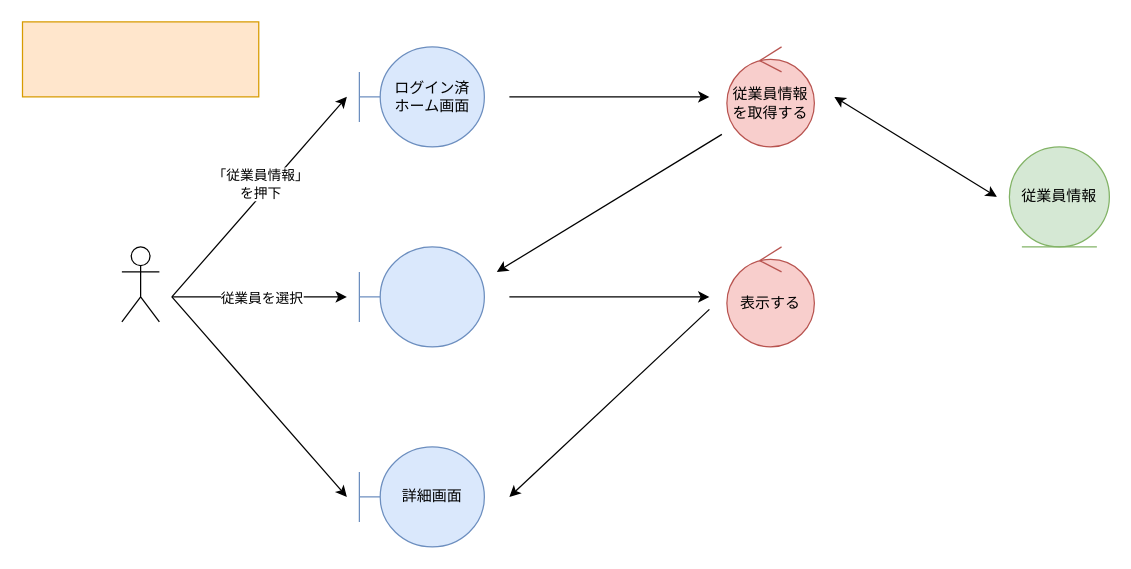
Some shapes in this 1131 by 569 pixel diagram are drawn without their labels. Each missing label, with the centre of its shape:
"従業員情報 一覧画面" belongs at point (421, 296).
"従業員情報参照" belongs at point (140, 59).
"正規社員 非正規社員" belongs at point (140, 284).
